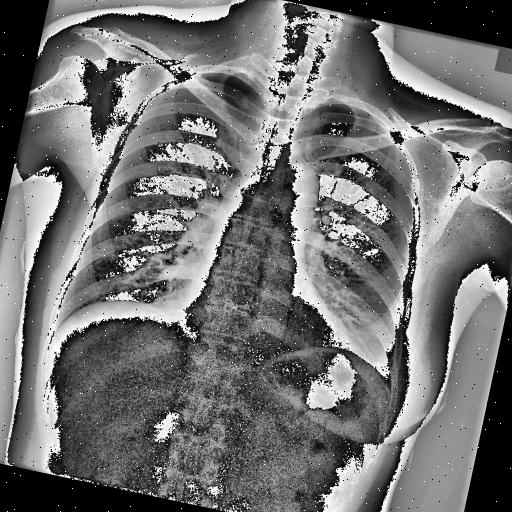0- Aortic enlargement: (261, 160, 324, 240), (271, 158, 324, 216), (270, 160, 324, 216)
3- Cardiomegaly: (177, 278, 372, 372), (178, 292, 368, 370)
